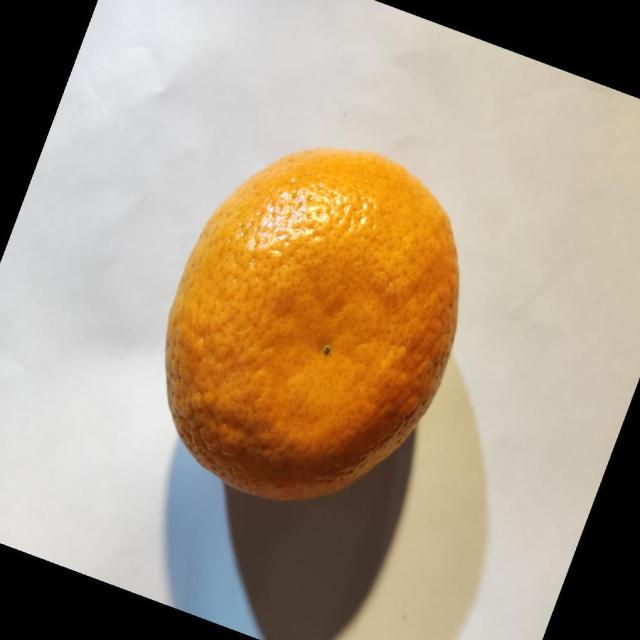fresh orange: (164, 146, 460, 502)
